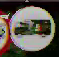Heavy Vehicles: (6, 3, 58, 50)
